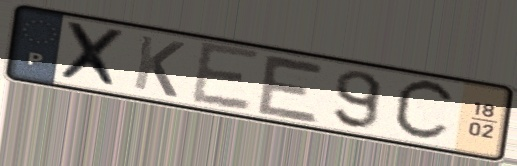9: (332, 69, 385, 132)
C: (389, 77, 460, 144)
E: (253, 50, 329, 126), (188, 39, 263, 114)
K: (129, 32, 188, 100)
X: (56, 19, 129, 92)
